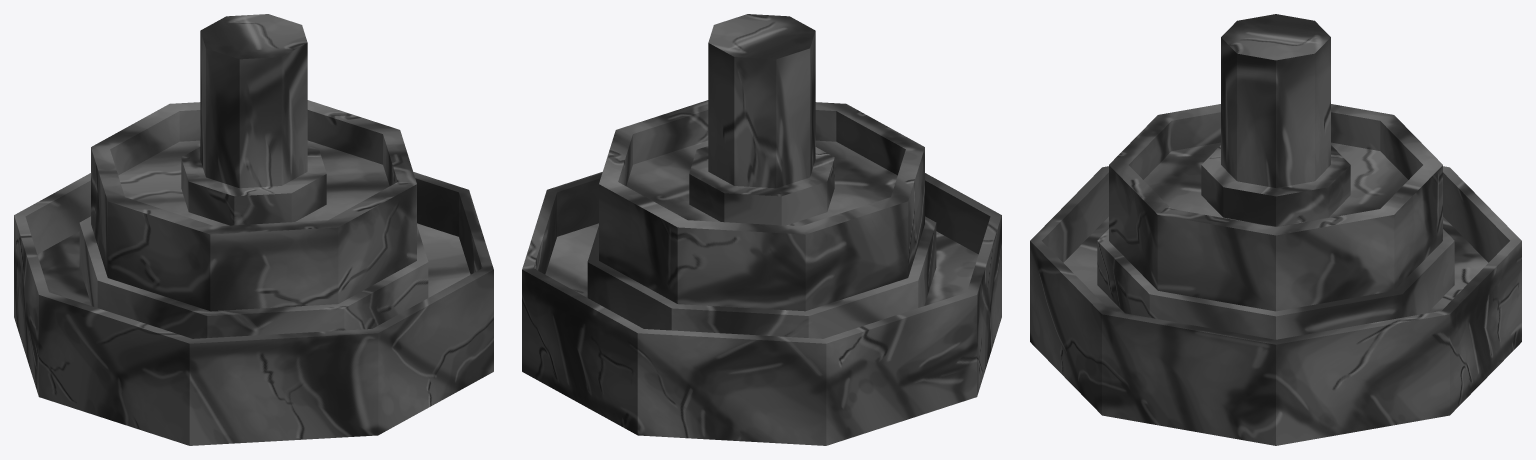
Rendered from water_fountain.obj.
3 renders of one model, left to right at view 1: azimuth 30°, elevation 25°; view 2: azimuth 150°, elevation 25°; view 3: azimuth 270°, elevation 25°, orthographic.
Visible parts, largest first — view 1: Fuente_Circle.011; view 2: Fuente_Circle.011; view 3: Fuente_Circle.011.
Boxes of the visible parts, bbox=[...] form: Fuente_Circle.011: bbox=[14, 14, 493, 445]; Fuente_Circle.011: bbox=[522, 14, 1001, 445]; Fuente_Circle.011: bbox=[1030, 14, 1521, 445].
Bounding box in the file's own units: 10.87 × 7.44 × 10.87.
